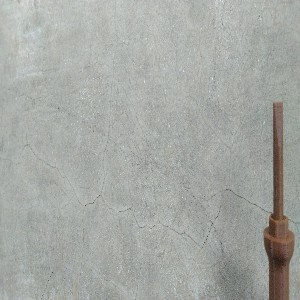obeng: (262, 100, 296, 300)
